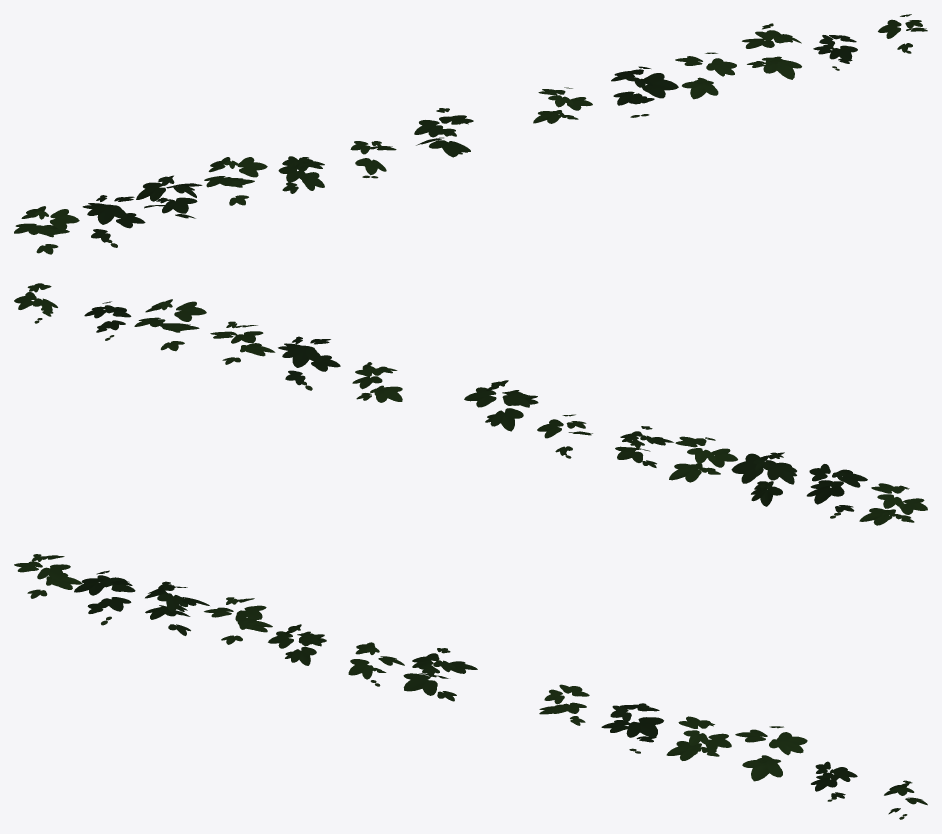
Rendered from ROW_14_SEG5_foliage.dae.
The picture shows the model from 3 angles, top to bottom: view 1: azimuth 30°, elevation 25°; view 2: azimuth 150°, elevation 25°; view 3: azimuth 330°, elevation 25°; orthographic projection.
Visible parts, largest first — view 1: ROW_14_SEG5_foliage; view 2: ROW_14_SEG5_foliage; view 3: ROW_14_SEG5_foliage.
Part boxes in pixels (left/top/right/bottom): ROW_14_SEG5_foliage: left=14, top=14, right=927, bottom=254; ROW_14_SEG5_foliage: left=14, top=283, right=927, bottom=525; ROW_14_SEG5_foliage: left=14, top=554, right=927, bottom=819.
Size of the model in its own units: 4.2 by 0.3462 by 0.2408.
